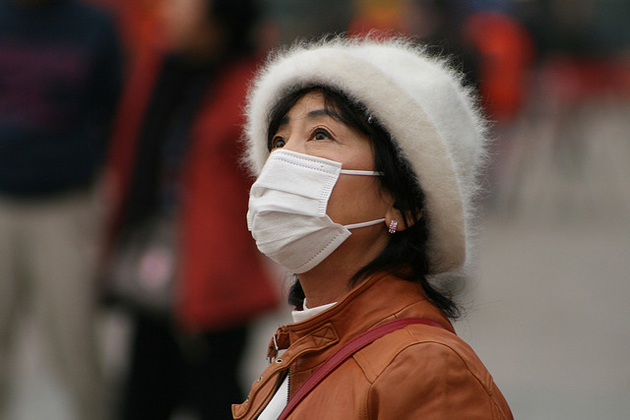Head: (247, 30, 428, 275)
